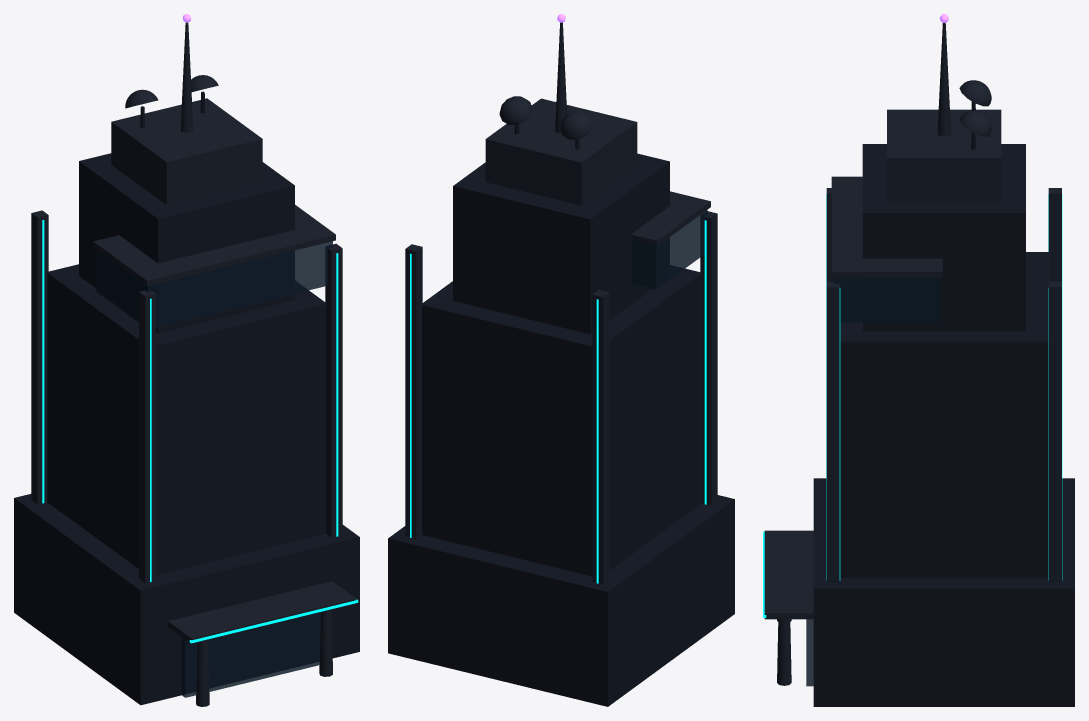
File: building_landmark_tower.glb
3 views of the same model, side by side, from view 1: azimuth 30°, elevation 25°; view 2: azimuth 150°, elevation 25°; view 3: azimuth 270°, elevation 25° (orthographic). The views are drawn at different scales.
Visible parts, largest first — view 1: BuildingLandmarkTower; view 2: BuildingLandmarkTower; view 3: BuildingLandmarkTower.
Part boxes in pixels (x1,y1,x2,y2): BuildingLandmarkTower: (14, 14, 359, 706); BuildingLandmarkTower: (388, 14, 734, 706); BuildingLandmarkTower: (763, 14, 1074, 706).
Size of the model in its own units: 16 by 43.08 by 19.1.
